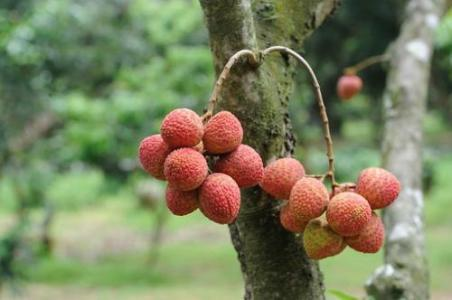litchi: (142, 111, 257, 220), (266, 161, 398, 254)
stem: (310, 69, 342, 181), (200, 54, 235, 117)
